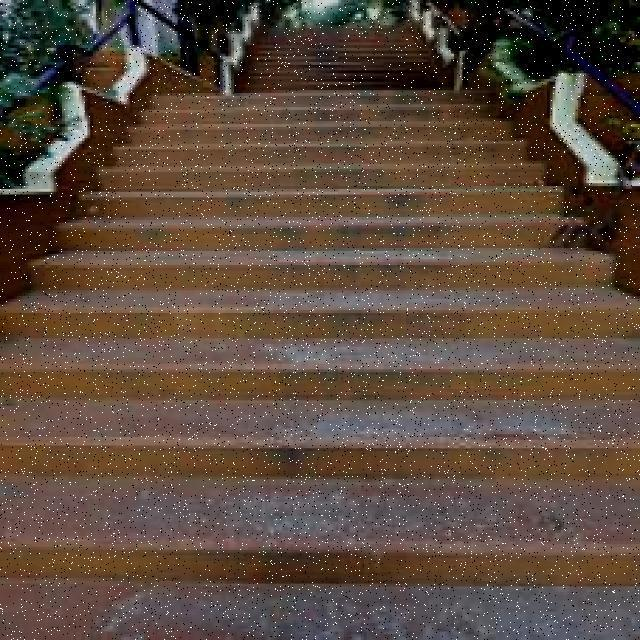Stairs: (29, 42, 622, 621)
